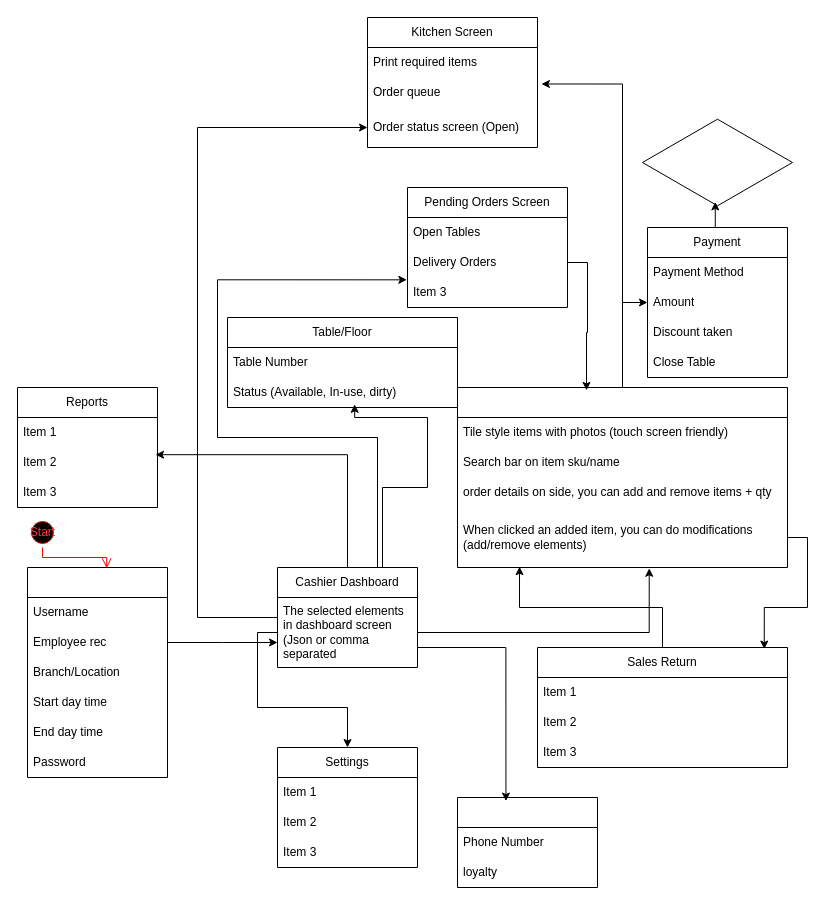
This 833x905 diagram has some shape labels left out. Here are the shapes that lost their labels. From the top down, the box of each, then its label:
(642, 116, 792, 208): Preview/Print Receipt
(456, 386, 788, 568): Sales screen
(26, 566, 168, 778): Login
(456, 796, 598, 888): Customer
